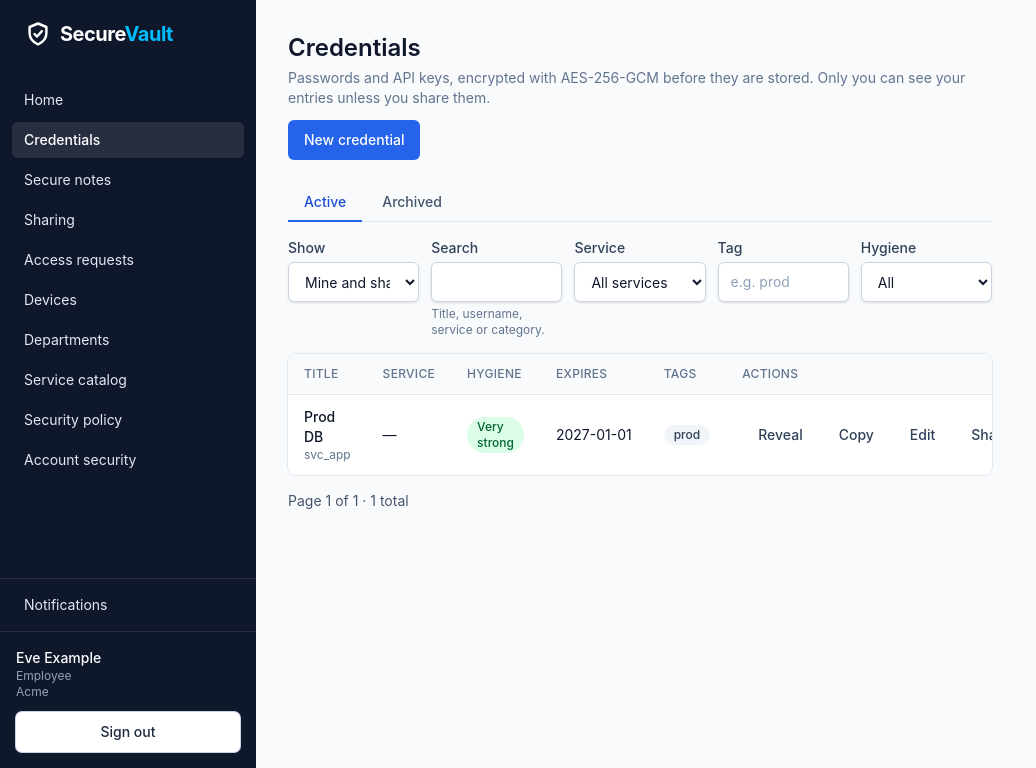
it: credentials vault › shows the server's refusal (e.g. lockdown or permission) instead of a secret
Step 1. Click the button with aria-label "Reveal Prod DB" → (780, 435), box top-left (742, 415), bottom-right (819, 455)
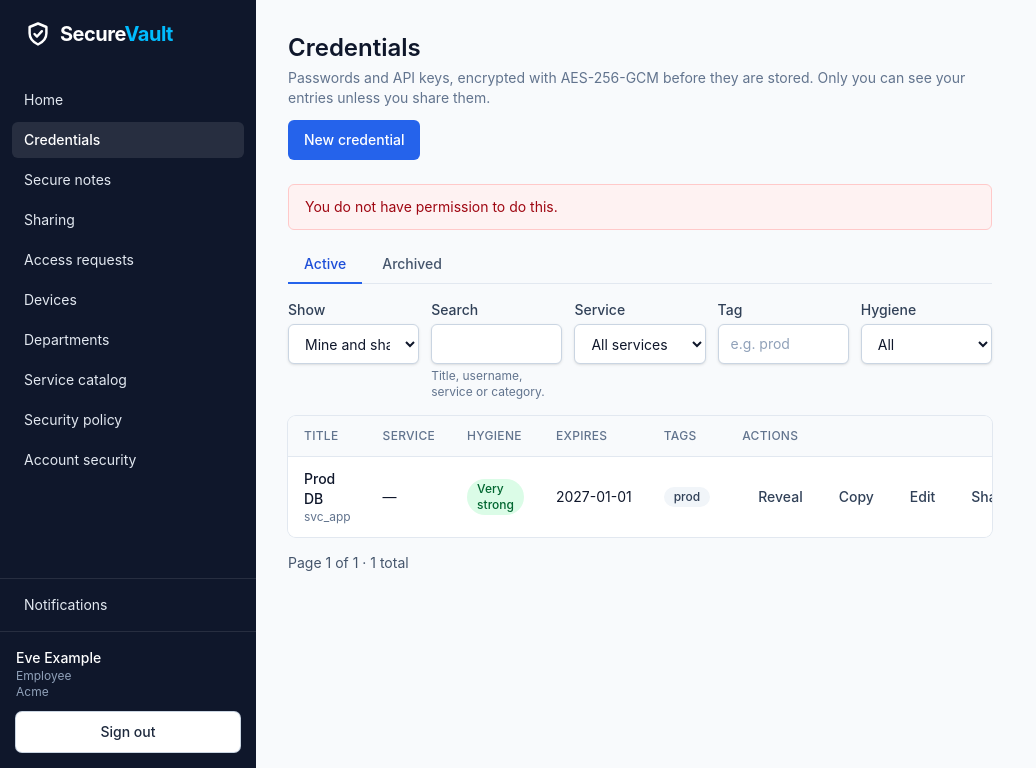
Expected: the message reads "You do not have permission to do this.", top-left (305, 198), bottom-right (558, 215)
